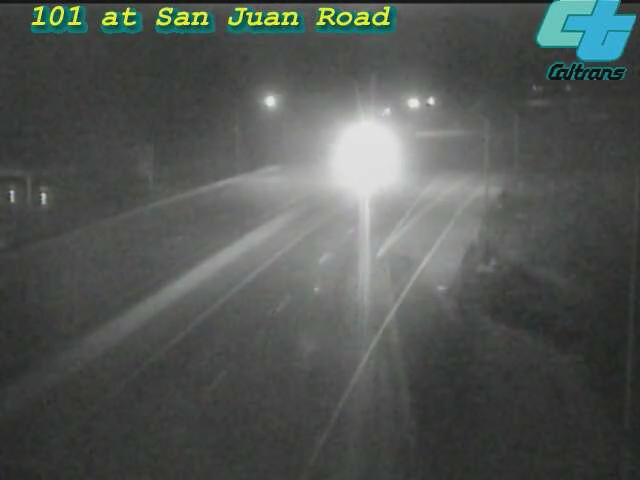vehicle: (331, 123, 381, 173)
